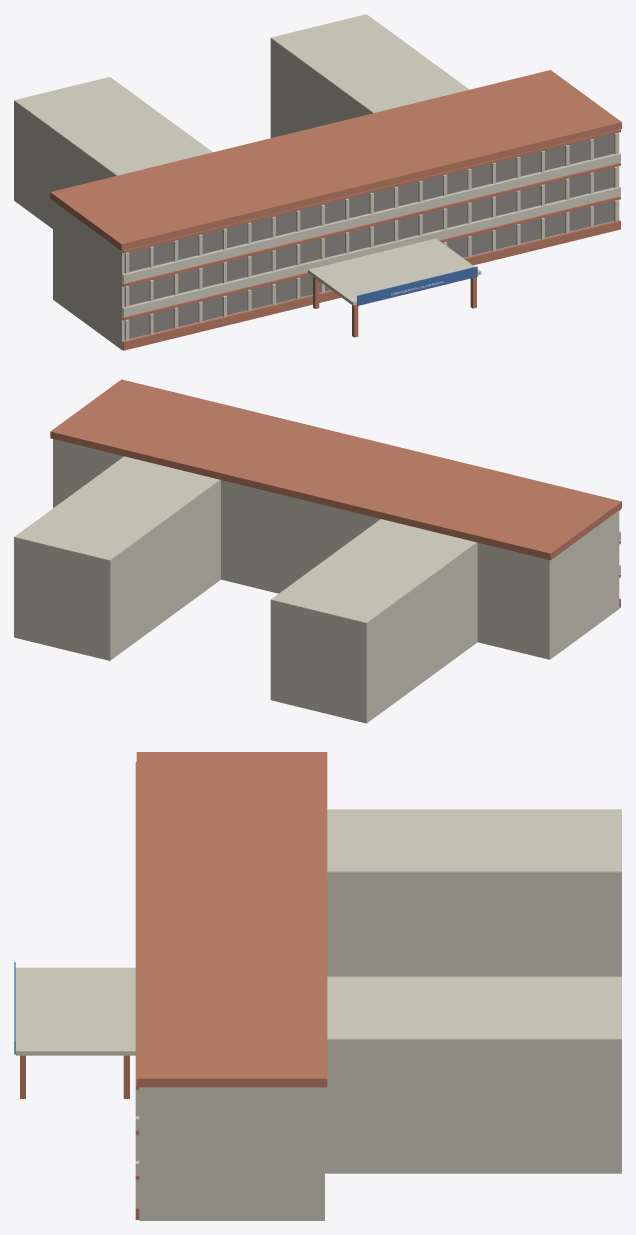
File: hospital_ao.glb
The picture shows the model from 3 angles, top to bottom: view 1: azimuth 30°, elevation 25°; view 2: azimuth 150°, elevation 25°; view 3: azimuth 270°, elevation 25°; orthographic projection. The views are drawn at different scales.
Visible parts, largest first — view 1: hospital; view 2: hospital; view 3: hospital.
Boxes of the visible parts, x1,y1,x2,y2 form: hospital: (14, 14, 621, 350); hospital: (14, 379, 621, 723); hospital: (14, 752, 621, 1220).
Bounding box in the file's own units: 62.4 × 12.8 × 49.12.
